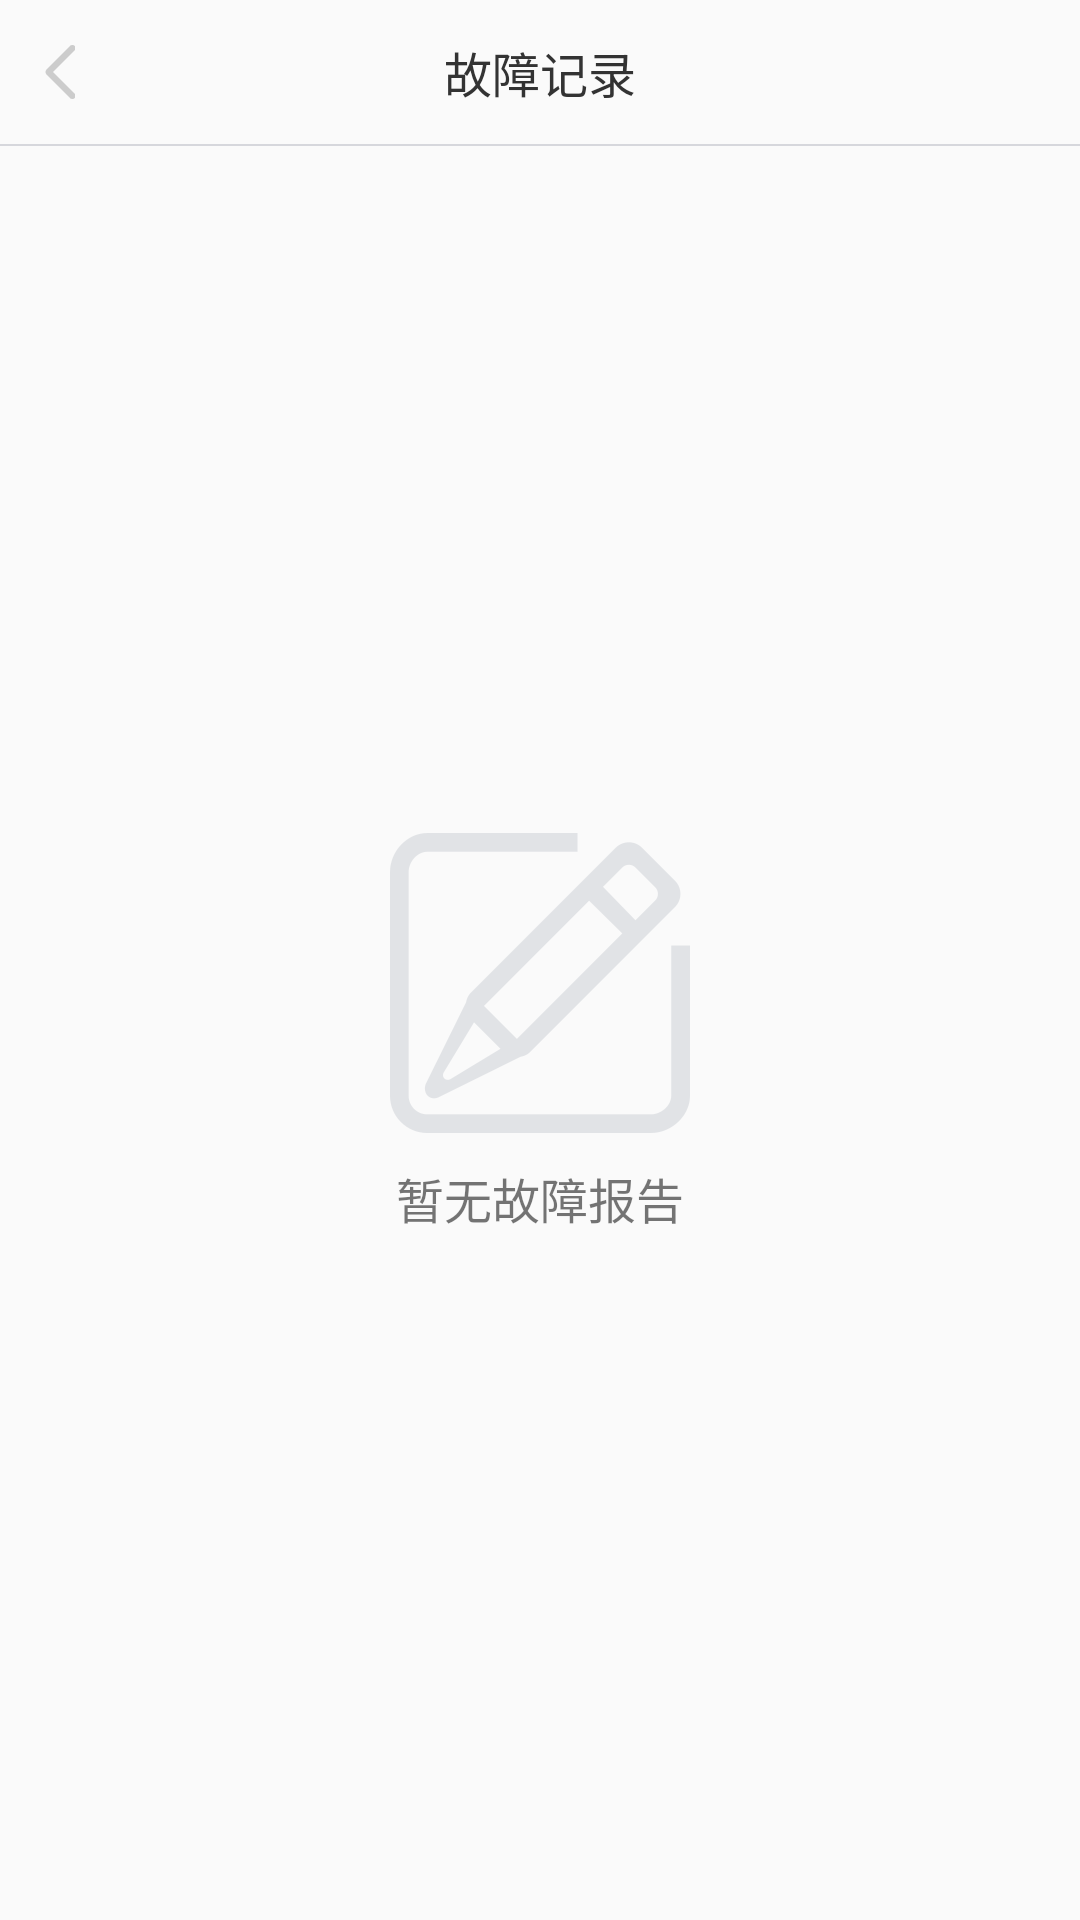

Icon click points for this 1080 × 1920 phone screenshot, format (x,y):
back: (60,72)
write: (540,983)
